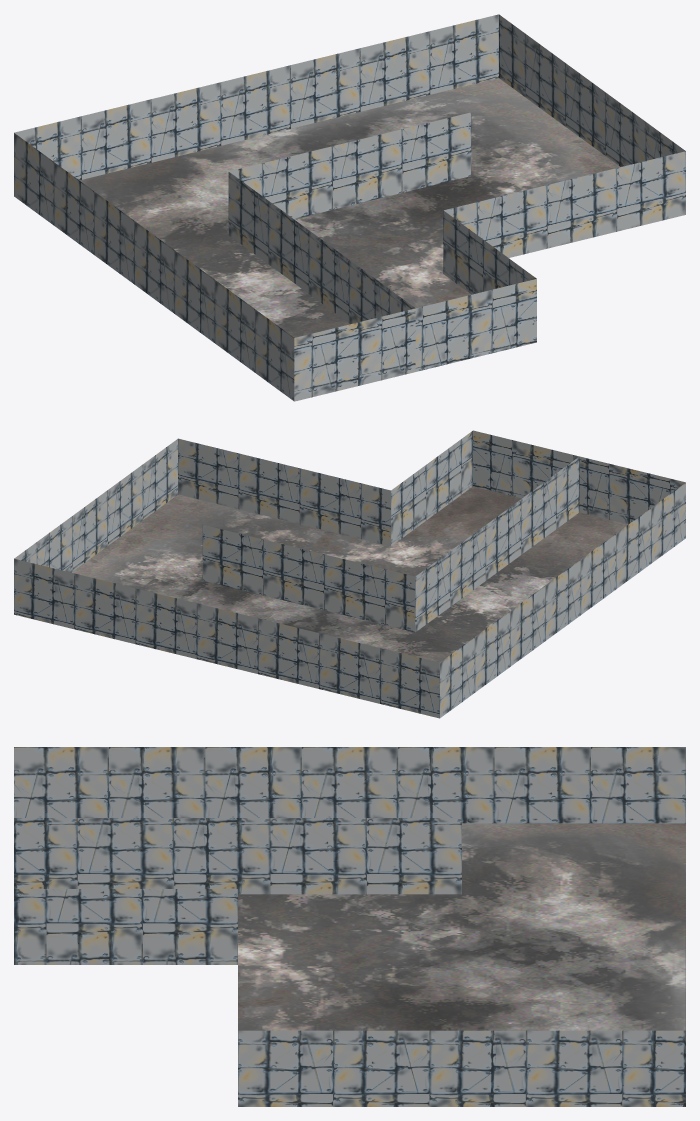
The model's file is LevelWavelength.fbx.
The picture shows the model from 3 angles, top to bottom: view 1: azimuth 30°, elevation 25°; view 2: azimuth 150°, elevation 25°; view 3: azimuth 270°, elevation 25°; orthographic projection. The views are drawn at different scales.
Parts seen in each view (by area): view 1: pPlane1; view 2: pPlane1; view 3: pPlane1.
Boxes of the visible parts, <box> form: pPlane1: <box>14,14,685,401</box>; pPlane1: <box>14,430,685,718</box>; pPlane1: <box>14,747,685,1106</box>.
Size of the model in its own units: 23.9 by 3 by 23.94.
2 materials, 2 textured.
